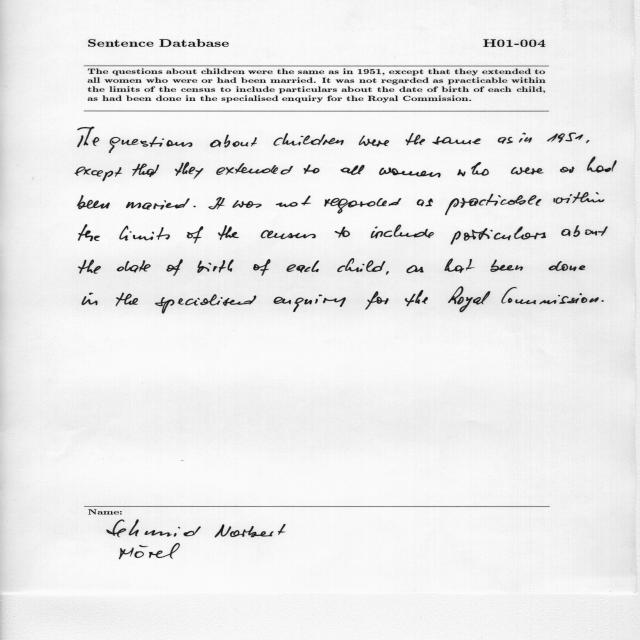word: (155, 294, 256, 314), (445, 194, 541, 215), (451, 227, 546, 245), (501, 287, 599, 304), (109, 137, 193, 153), (274, 295, 346, 312), (324, 198, 401, 213), (448, 287, 490, 313), (216, 163, 293, 175), (273, 133, 344, 146), (371, 225, 434, 239), (126, 198, 190, 210), (119, 226, 170, 241), (75, 167, 122, 181), (337, 259, 386, 272), (379, 168, 441, 178), (554, 192, 605, 204), (210, 135, 257, 148), (561, 225, 608, 237), (197, 259, 234, 273), (261, 230, 316, 239), (587, 157, 617, 173), (175, 162, 203, 179), (77, 195, 110, 209), (445, 258, 475, 273), (457, 162, 489, 176), (117, 260, 151, 273), (432, 136, 481, 145), (366, 291, 389, 310), (78, 127, 99, 147), (287, 260, 319, 273), (490, 260, 523, 272), (276, 196, 311, 207), (78, 225, 100, 242), (549, 261, 586, 271), (405, 290, 428, 306), (547, 133, 583, 143), (132, 164, 159, 177), (78, 259, 101, 274), (359, 136, 389, 147), (218, 225, 239, 240), (116, 293, 138, 307), (253, 259, 271, 276), (166, 259, 183, 276), (187, 227, 203, 244), (511, 167, 543, 175), (341, 165, 365, 175), (232, 200, 262, 208), (406, 133, 425, 145), (208, 197, 225, 209), (82, 293, 98, 305), (335, 227, 350, 238), (304, 164, 319, 174), (406, 265, 424, 273), (519, 133, 532, 143), (417, 199, 433, 207), (498, 137, 513, 144), (560, 167, 575, 173), (386, 271, 389, 275), (586, 140, 589, 143), (601, 300, 604, 302), (193, 206, 196, 207)
